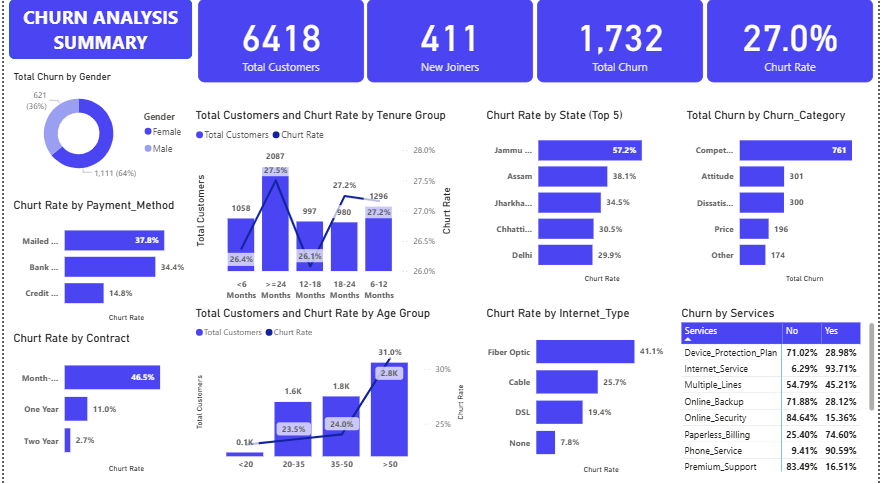

What the dashboard file says about the page in this screenshot:
{"tool":"powerbi","page":{"name":"Summary Dashboard","canvas":[1280,720],"ordinal":0},"visuals":[{"type":"card","fields":{"Values":["tbl_measures.Total Customers"]},"box":[283.3,5,243.3,121.7],"z":0},{"type":"donutChart","fields":{"Y":["tbl_measures.Total Churn"],"Category":["prod_Churn.Gender"]},"box":[8.3,110,266.7,166.7],"z":1000},{"type":"lineStackedColumnComboChart","fields":{"Category":["mapping_AgeGrp.Age Group"],"Y":["tbl_measures.Total Customers"],"Y2":["tbl_measures.Churt Rate"]},"box":[275,453.3,403.3,250],"z":2000},{"type":"clusteredBarChart","fields":{"Category":["prod_Churn.Payment_Method"],"Y":["tbl_measures.Churt Rate"]},"box":[8.3,295,266.7,185],"z":3000},{"type":"clusteredBarChart","fields":{"Y":["tbl_measures.Churt Rate"],"Category":["prod_Churn.Contract"]},"box":[8.3,490,266.7,211.7],"z":4000},{"type":"lineStackedColumnComboChart","fields":{"Category":["mapping_TenureGrp.Tenure Group"],"Y":["tbl_measures.Total Customers"],"Y2":["tbl_measures.Churt Rate"]},"box":[275,163.3,385,290],"z":5000},{"type":"clusteredBarChart","title":"Churt Rate by State (Top 5)","fields":{"Category":["prod_Churn.State"],"Y":["tbl_measures.Churt Rate"]},"box":[701.7,163.3,273.3,260],"z":6000},{"type":"clusteredBarChart","fields":{"Category":["prod_Churn.Churn_Category"],"Y":["tbl_measures.Total Churn"]},"box":[993.3,163.3,278.3,260],"z":7000},{"type":"clusteredBarChart","fields":{"Category":["prod_Churn.Internet_Type"],"Y":["tbl_measures.Churt Rate"]},"box":[701.7,453.3,273.3,250],"z":8000},{"type":"pivotTable","title":"Churn by Services","fields":{"Rows":["prod_Services.Services"],"Columns":["prod_Services.Status"],"Values":["Sum(prod_Services.Churn Status)"]},"box":[986.7,453.3,293.3,246.7],"z":9000},{"type":"card","fields":{"Values":["tbl_measures.New Joiners"]},"box":[531.7,5,243.3,121.7],"z":10000},{"type":"card","fields":{"Values":["tbl_measures.Total Churn"]},"box":[780,5,243.3,121.7],"z":11000},{"type":"card","fields":{"Values":["tbl_measures.Churt Rate"]},"box":[1028.3,5,243.3,121.7],"z":12000},{"type":"shape","box":[6.7,5,268.3,88.3],"z":13000}]}

Visuals, with their boxes in screenshot pixels (x1, y1, x2, y2), scaled from the page's 1280x720 canvas onto the 881x484 screenshot:
card - tbl_measures.Total Customers: x1=195, y1=3, x2=362, y2=85
donutChart - tbl_measures.Total Churn x prod_Churn.Gender: x1=6, y1=74, x2=189, y2=186
lineStackedColumnComboChart - mapping_AgeGrp.Age Group x tbl_measures.Total Customers: x1=189, y1=305, x2=467, y2=473
clusteredBarChart - prod_Churn.Payment_Method x tbl_measures.Churt Rate: x1=6, y1=198, x2=189, y2=323
clusteredBarChart - tbl_measures.Churt Rate x prod_Churn.Contract: x1=6, y1=329, x2=189, y2=472
lineStackedColumnComboChart - mapping_TenureGrp.Tenure Group x tbl_measures.Total Customers: x1=189, y1=110, x2=454, y2=305
"Churt Rate by State (Top 5)" clusteredBarChart: x1=483, y1=110, x2=671, y2=285
clusteredBarChart - prod_Churn.Churn_Category x tbl_measures.Total Churn: x1=684, y1=110, x2=875, y2=285
clusteredBarChart - prod_Churn.Internet_Type x tbl_measures.Churt Rate: x1=483, y1=305, x2=671, y2=473
"Churn by Services" pivotTable: x1=679, y1=305, x2=880, y2=471
card - tbl_measures.New Joiners: x1=366, y1=3, x2=533, y2=85
card - tbl_measures.Total Churn: x1=537, y1=3, x2=704, y2=85
card - tbl_measures.Churt Rate: x1=708, y1=3, x2=875, y2=85
shape: x1=5, y1=3, x2=189, y2=63
